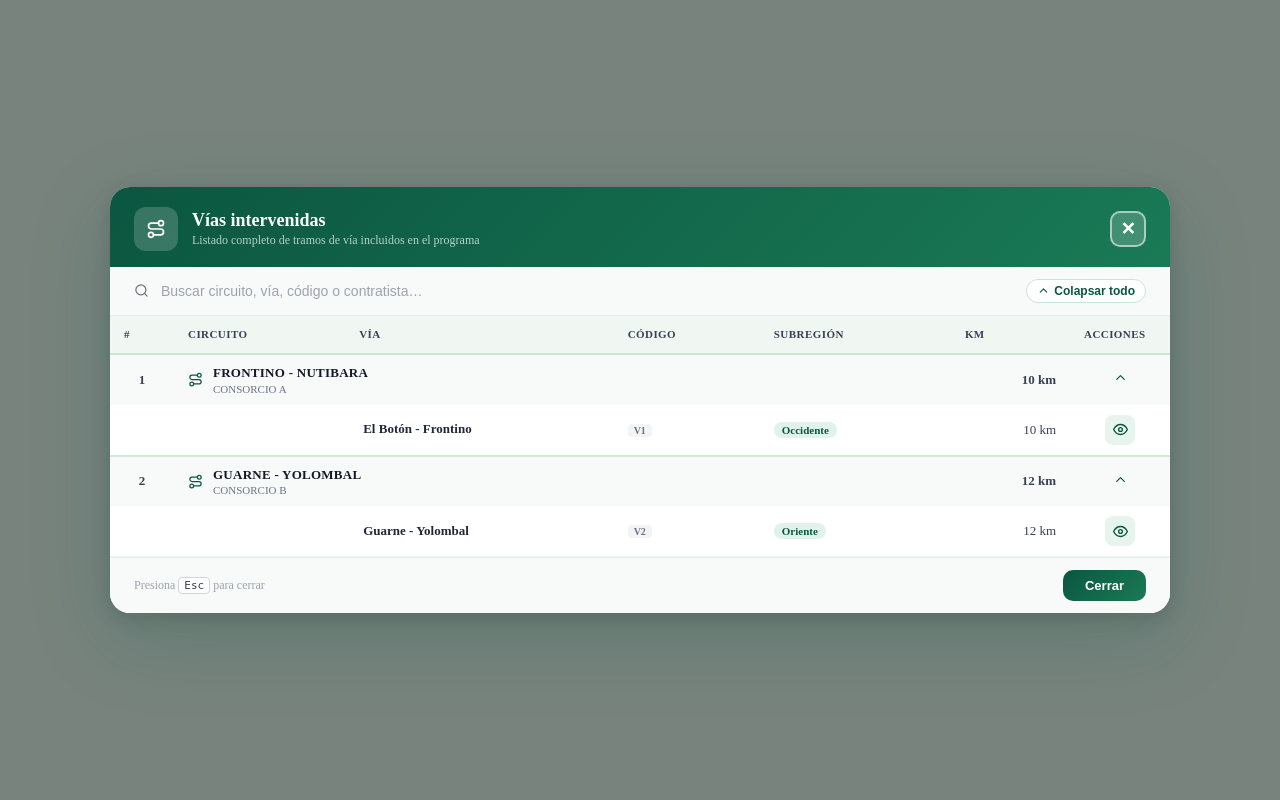
Test: StatsDetailModal — vista "vias" › ordena por circuito y por subregión, e invierte el orden al repetir clic
Step 1. Click the column heading with class "sortable" showing "Circuito" → click(260, 335), box left=174, top=316, right=345, bottom=354
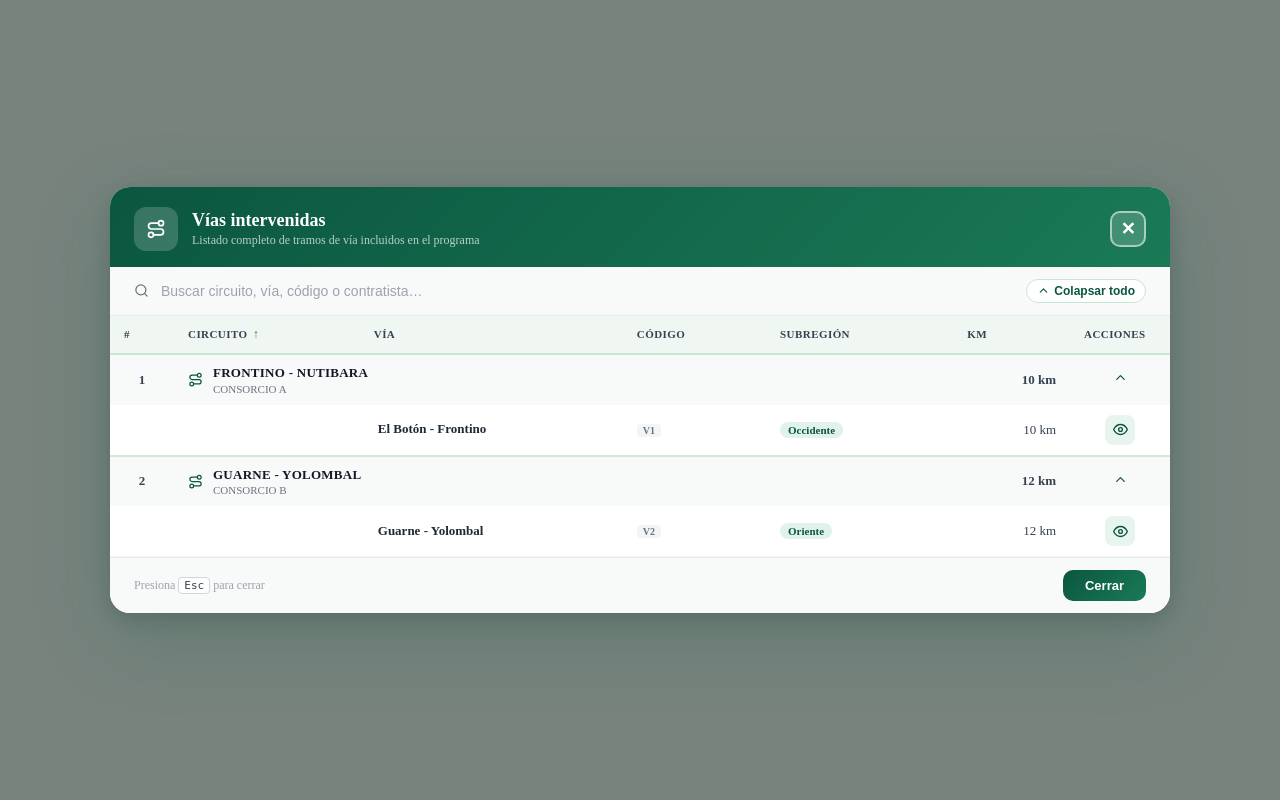
Check: the text with class "sort-ic" reads "↑", box left=253, top=327, right=259, bottom=341
Step 2. Click the column heading with class "sortable" showing "Circuito ↑" → click(267, 335), box left=174, top=316, right=360, bottom=354
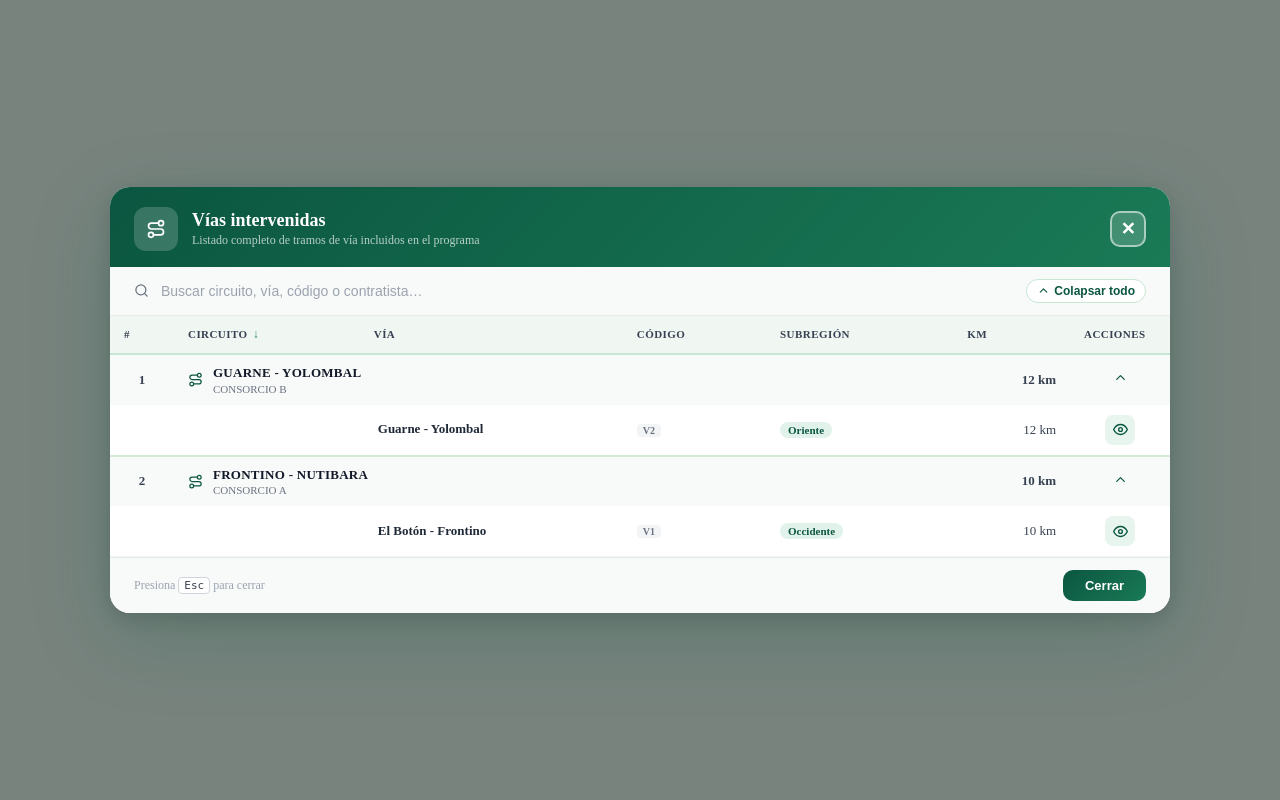
Check: the text with class "sort-ic" reads "↓", box left=253, top=327, right=259, bottom=341
Step 3. Click the column heading with class "sortable" showing "Subregión" → click(860, 335), box left=766, top=316, right=953, bottom=354
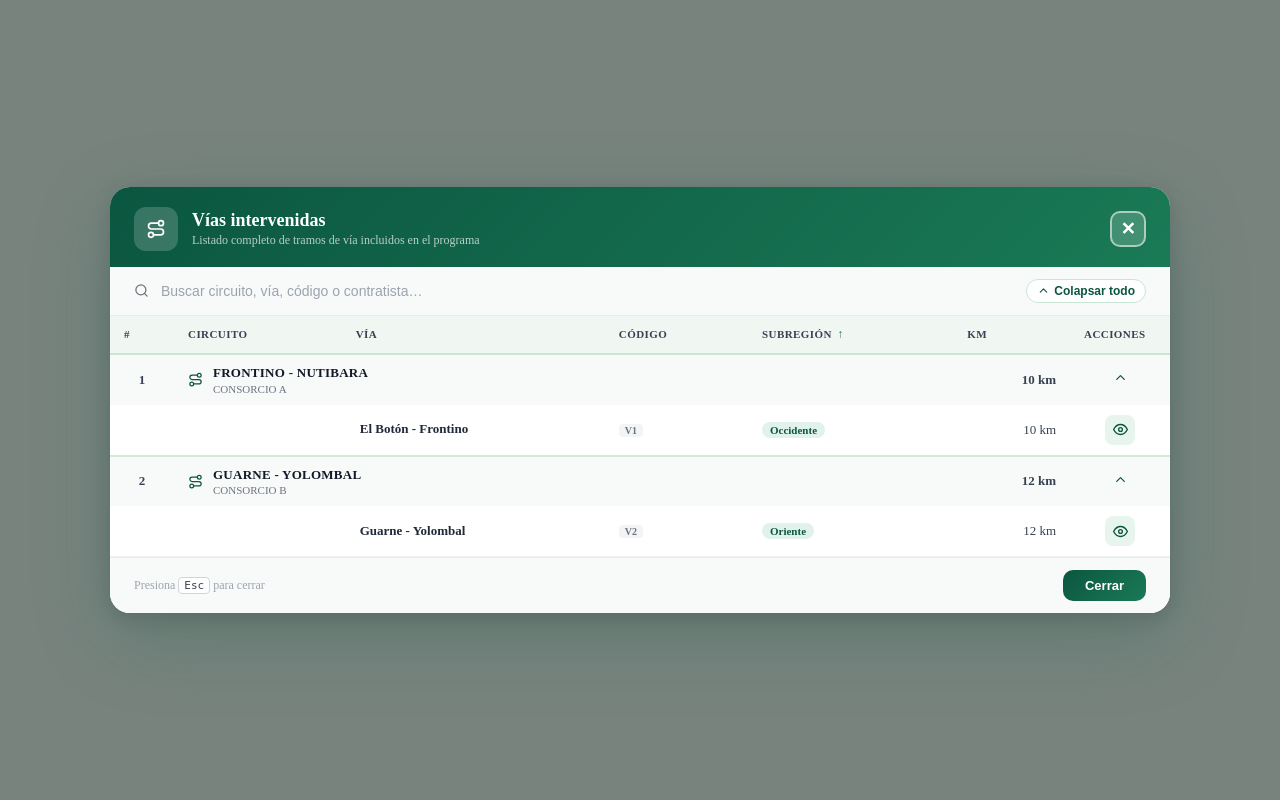
Check: the text with class "sort-ic" reads "↑", box left=837, top=327, right=844, bottom=341
